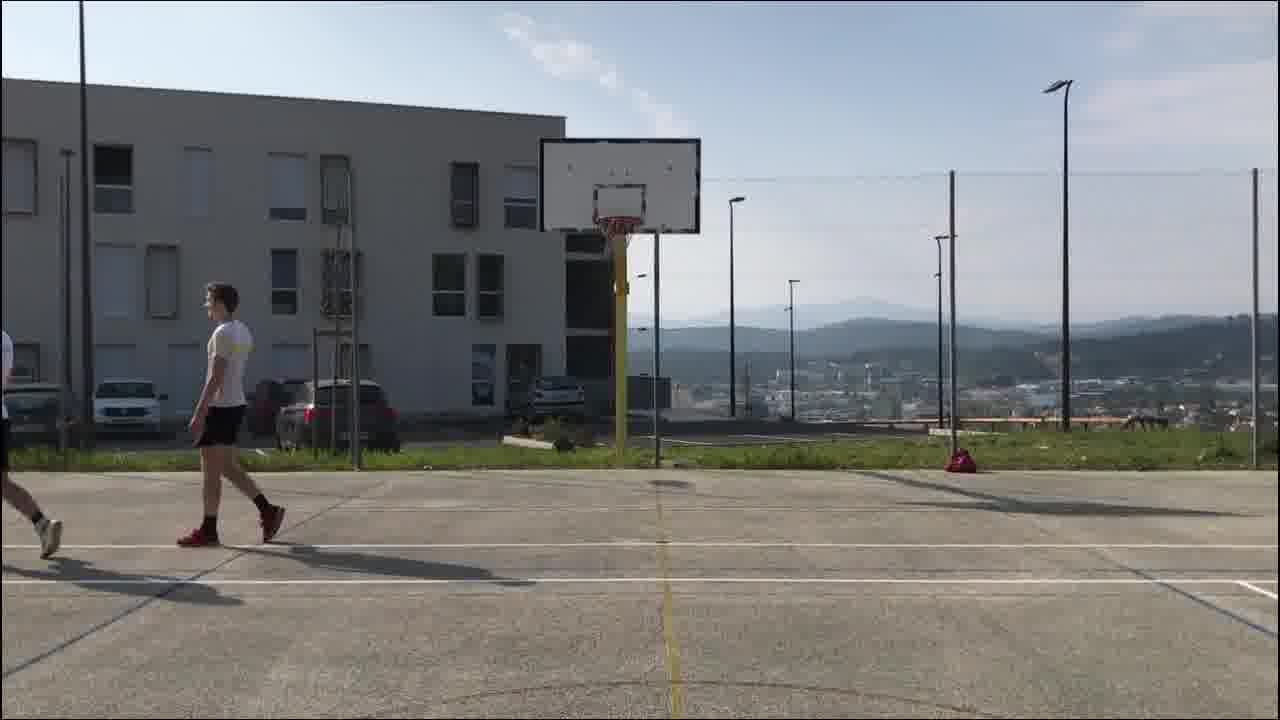jugador: (159, 271, 293, 557)
